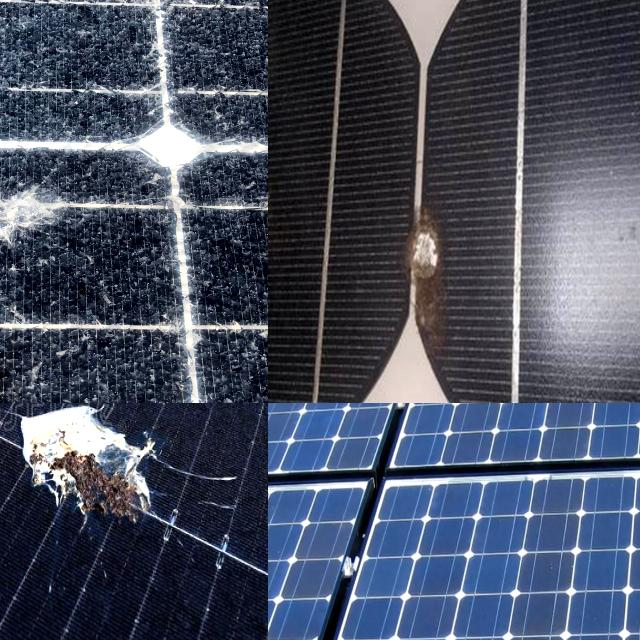bird: (0, 403, 230, 535)
crack: (452, 549, 530, 612), (396, 550, 479, 605), (516, 550, 592, 602), (355, 560, 418, 601)
hotspot: (0, 169, 143, 287)
shadow: (397, 178, 472, 364), (268, 153, 300, 262)
